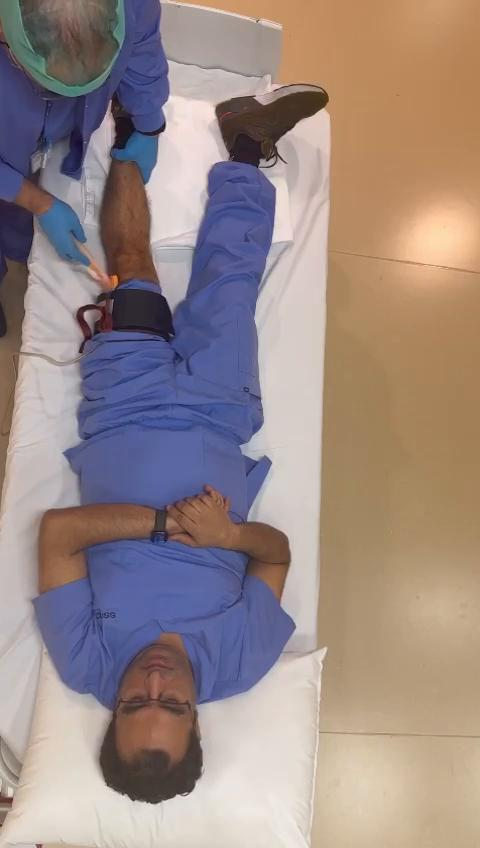patient: (35, 86, 326, 802)
prepstick: (75, 238, 118, 291)
tourniquet: (76, 288, 174, 350)
